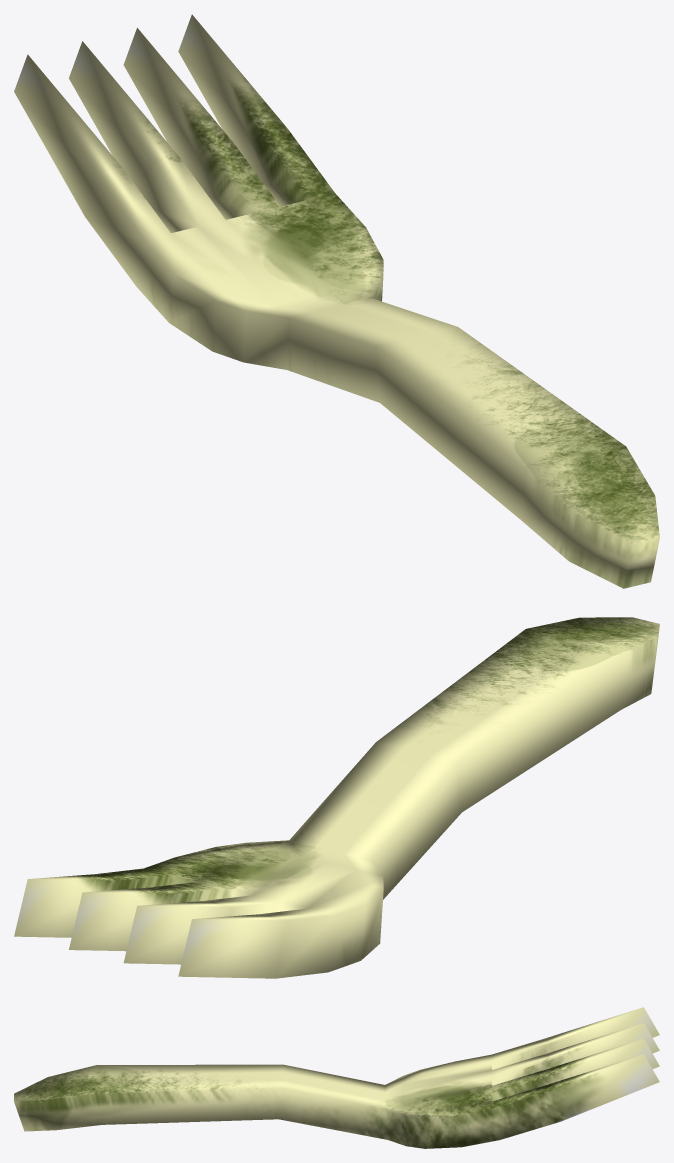
The model's file is plastic fork.obj.
The picture shows the model from 3 angles, top to bottom: view 1: azimuth 30°, elevation 25°; view 2: azimuth 150°, elevation 25°; view 3: azimuth 270°, elevation 25°; orthographic projection. The views are drawn at different scales.
Parts seen in each view (by area): view 1: polySurface2; view 2: polySurface2; view 3: polySurface2.
Boxes of the visible parts, x1,y1,x2,y2 form: polySurface2: (14, 14, 659, 588); polySurface2: (14, 617, 659, 978); polySurface2: (14, 1007, 659, 1148).
Bounding box in the file's own units: 0.2005 × 0.1656 × 0.9943.
